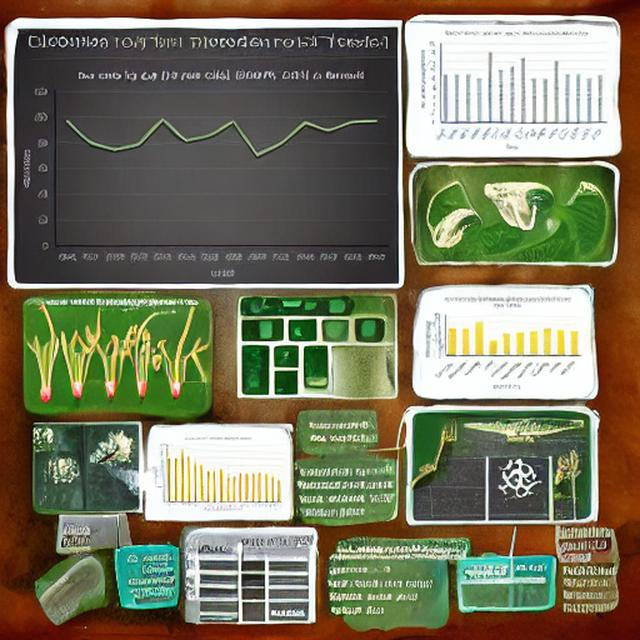Graph: (17, 59, 399, 284), (416, 28, 610, 154), (422, 293, 585, 395), (150, 434, 286, 516), (426, 485, 486, 521)
